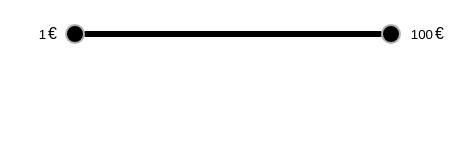
Test case: Given a FlexibleRange component min input › When initial value is 1 and max is 100 › And the user deletes all in the min input › Then should put 0 as the input value
Clear the field with test id "input-min": (31, 34) [16,16,46,52]
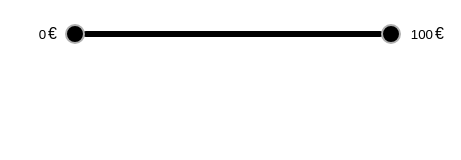
Leave the field with test id "input-min", box [16,16,46,52]
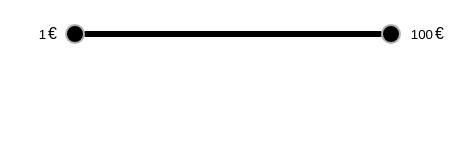
Now the field with test id "input-min" holds "1", box [16,16,46,52]
